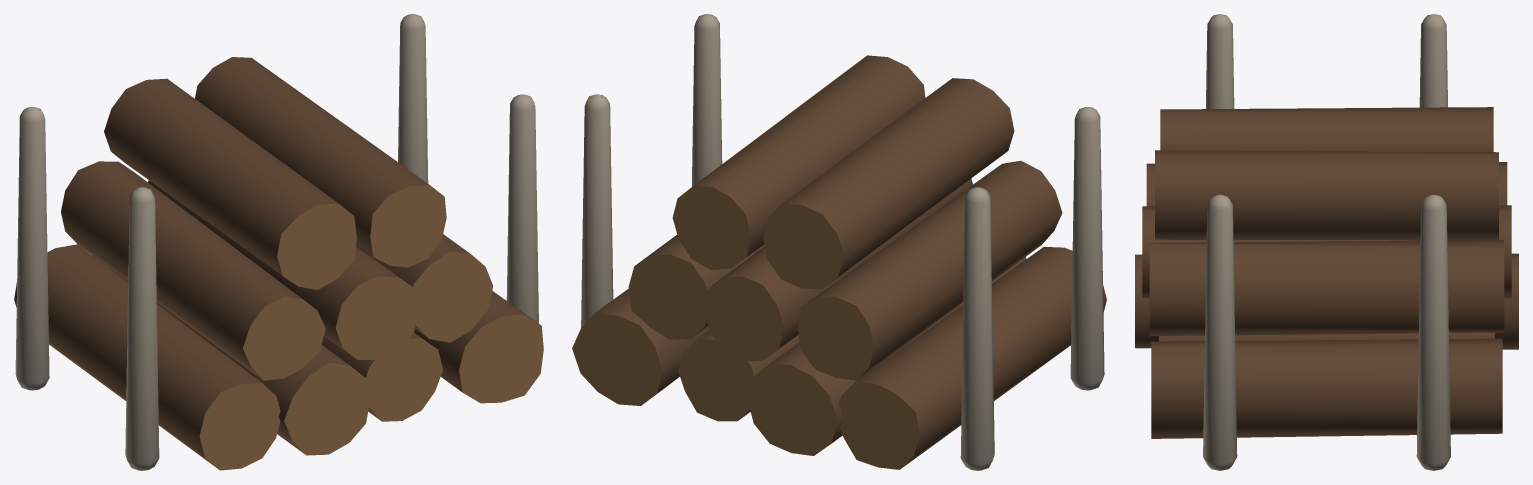
Rendered from sh_woodpile.fbx.
3 views of the same model, side by side, from view 1: azimuth 30°, elevation 25°; view 2: azimuth 150°, elevation 25°; view 3: azimuth 270°, elevation 25° (orthographic). The views are drawn at different scales.
Parts seen in each view (by area): view 1: SH_Woodpile; view 2: SH_Woodpile; view 3: SH_Woodpile.
Part boxes in pixels (<box>): SH_Woodpile: <box>14,14,543,470</box>; SH_Woodpile: <box>572,14,1106,470</box>; SH_Woodpile: <box>1135,14,1518,470</box>.
Bounding box in the file's own units: 21.6 × 14.26 × 17.96.
